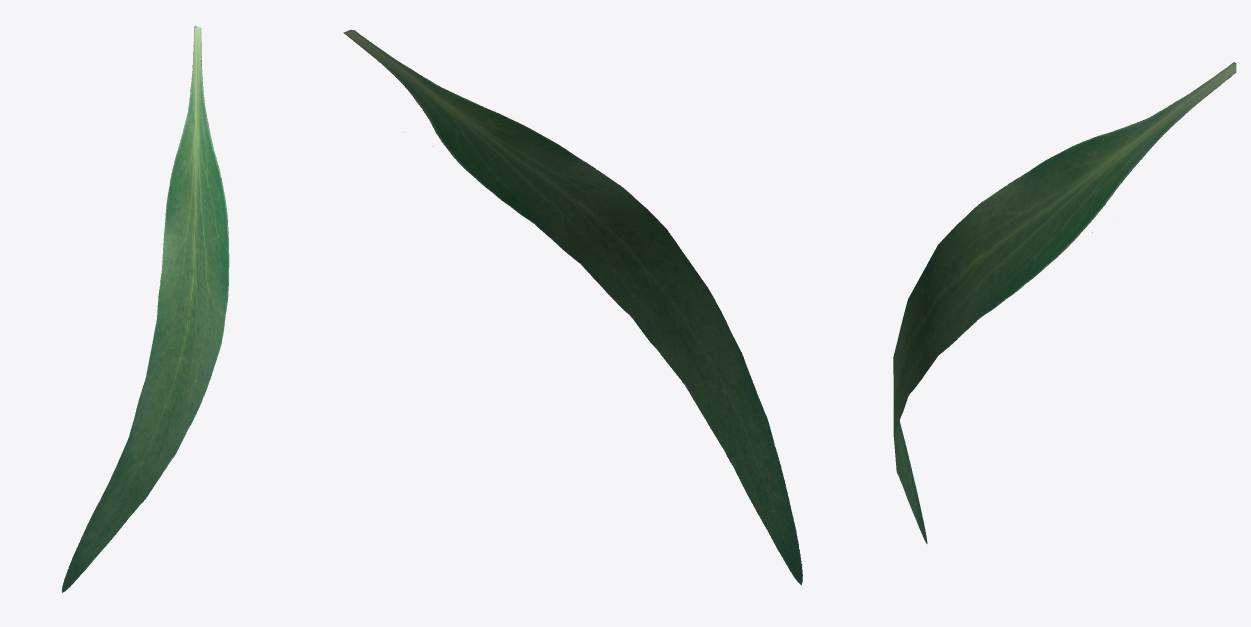
The picture shows the model from 3 angles, left to right: view 1: azimuth 30°, elevation 25°; view 2: azimuth 150°, elevation 25°; view 3: azimuth 270°, elevation 25°; orthographic projection. The views are drawn at different scales.
Visible parts, largest first — view 1: plant.001; view 2: plant.001; view 3: plant.001.
Boxes of the visible parts, left/top/right/bottom form: plant.001: left=61, top=26, right=229, bottom=592; plant.001: left=343, top=29, right=802, bottom=585; plant.001: left=893, top=62, right=1236, bottom=543.
Bounding box in the file's own units: 0.9372 × 1.28 × 0.548.
Materials: 1 (1 with a texture image).
